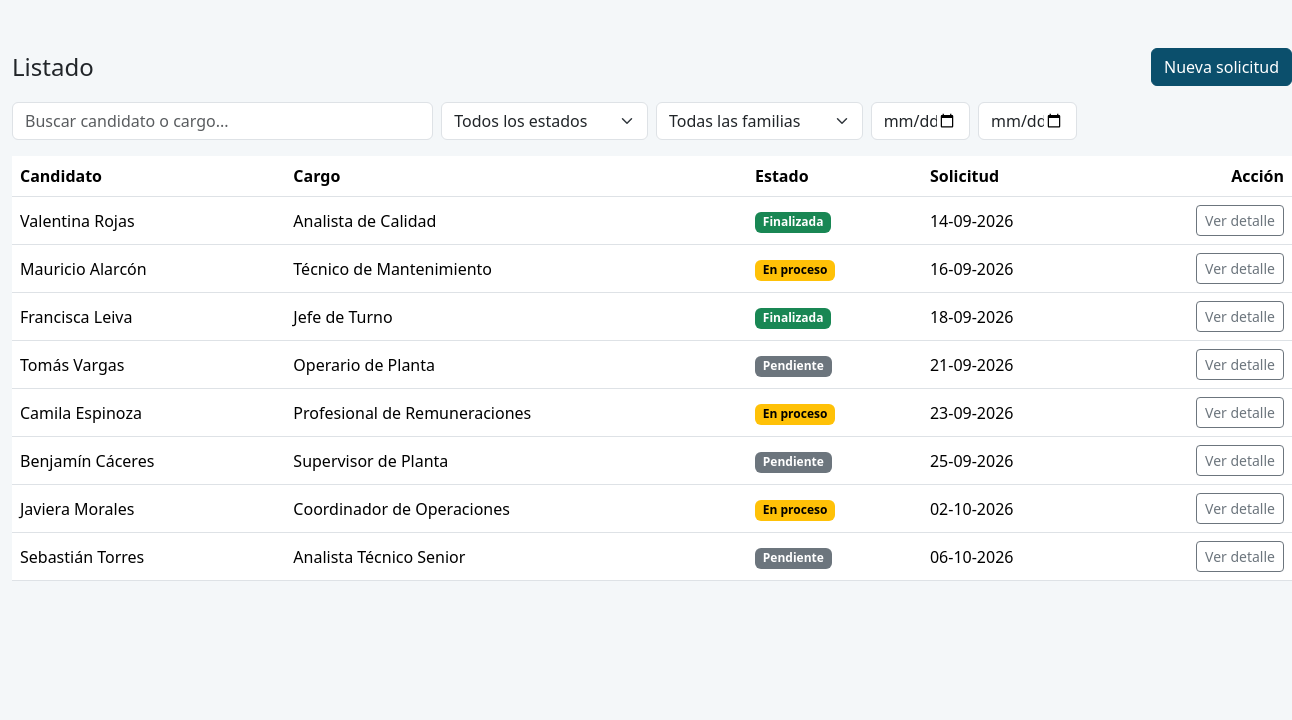
Test: BandejaSolicitudes › filtra por texto de candidato o cargo
Type "javiera" into the field labelled "Buscar candidato o cargo..." at (223, 121), box [12, 102, 433, 140]
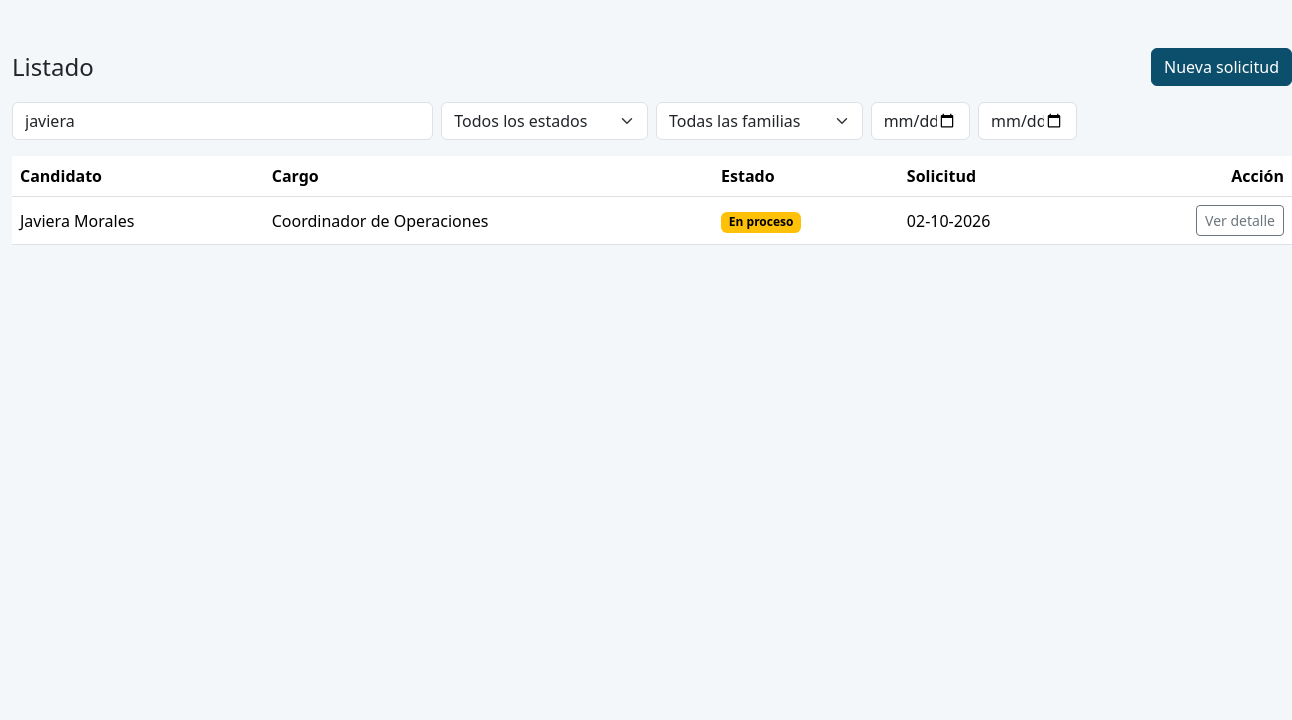
Check: the text "Javiera Morales" is shown, box [12, 196, 264, 244]
Check: the text "Tomás Vargas" is gone
